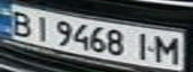4: (69, 21, 90, 52)
6: (87, 25, 109, 54)
8: (106, 27, 130, 57)
9: (48, 17, 75, 47)
B: (3, 7, 39, 38)
I: (130, 29, 160, 62), (27, 12, 54, 42)
M: (151, 33, 187, 65)
